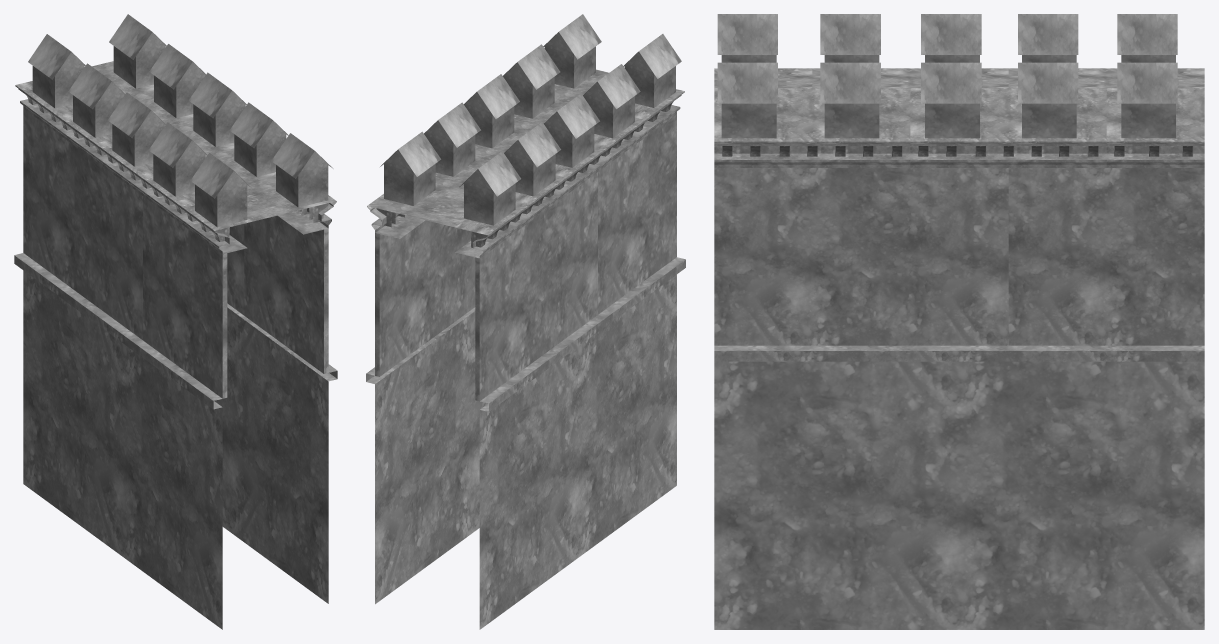
The model's file is SM_VistaCastle_06a.fbx.
The picture shows the model from 3 angles, left to right: view 1: azimuth 30°, elevation 25°; view 2: azimuth 150°, elevation 25°; view 3: azimuth 270°, elevation 25°; orthographic projection. The views are drawn at different scales.
Visible parts, largest first — view 1: SM_VistaCastle_06a_LOD0; view 2: SM_VistaCastle_06a_LOD0; view 3: SM_VistaCastle_06a_LOD0.
Boxes of the visible parts, x1,y1,x2,y2 form: SM_VistaCastle_06a_LOD0: (14,14,337,629); SM_VistaCastle_06a_LOD0: (366,14,685,629); SM_VistaCastle_06a_LOD0: (714,14,1204,629).
Bounding box in the file's own units: 270 × 750 × 945.
